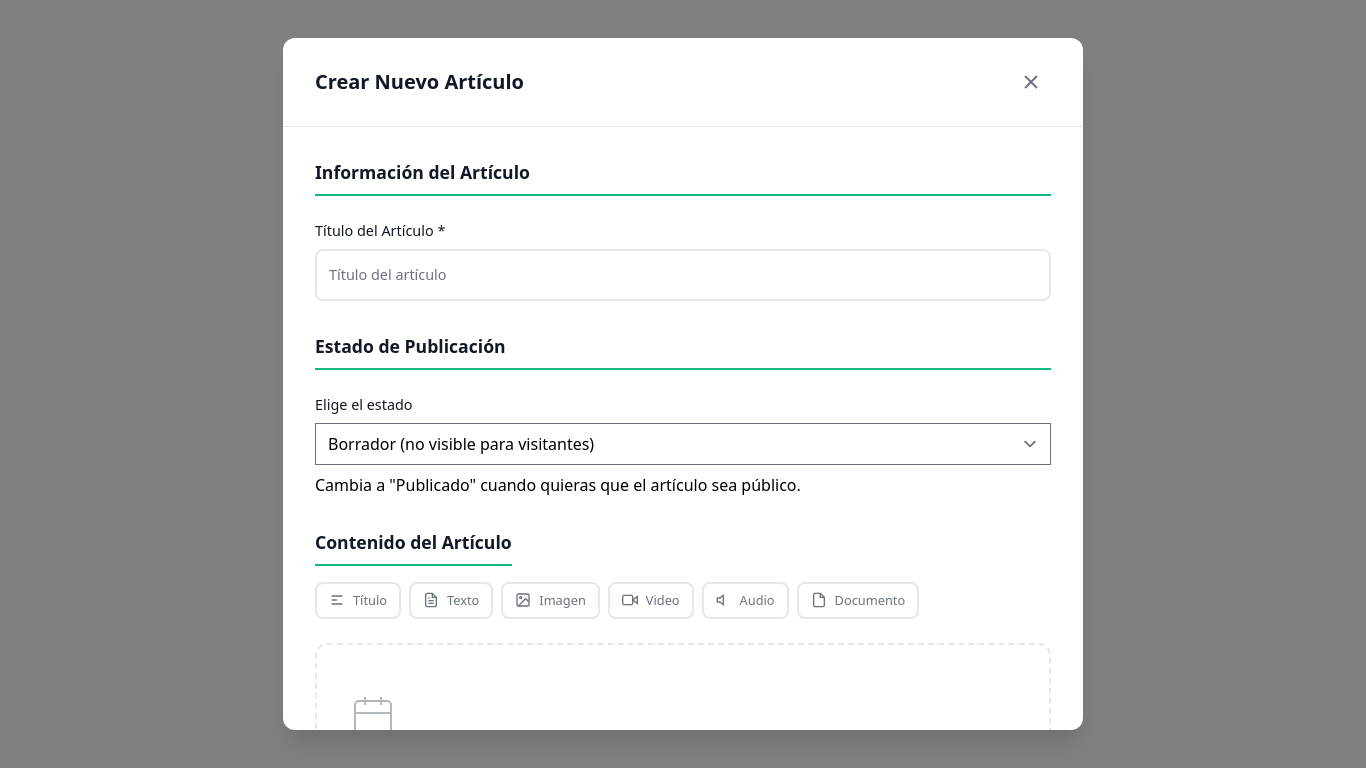
Test case: BlogPostForm › Element Management › should add title element when title button is clicked
Click the button "Título" at (358, 600), box [315, 582, 401, 619]
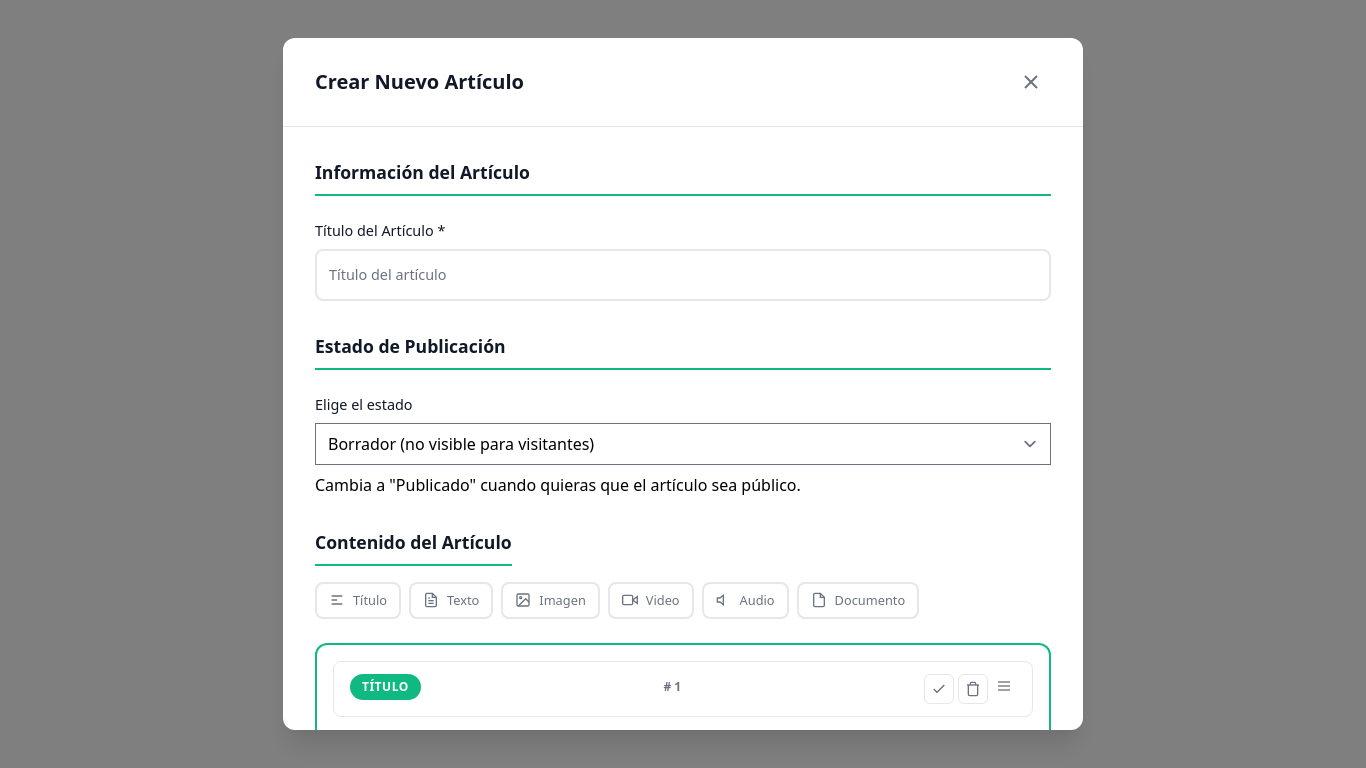
Expected: the text "Título" is shown, [350, 674, 421, 700]
